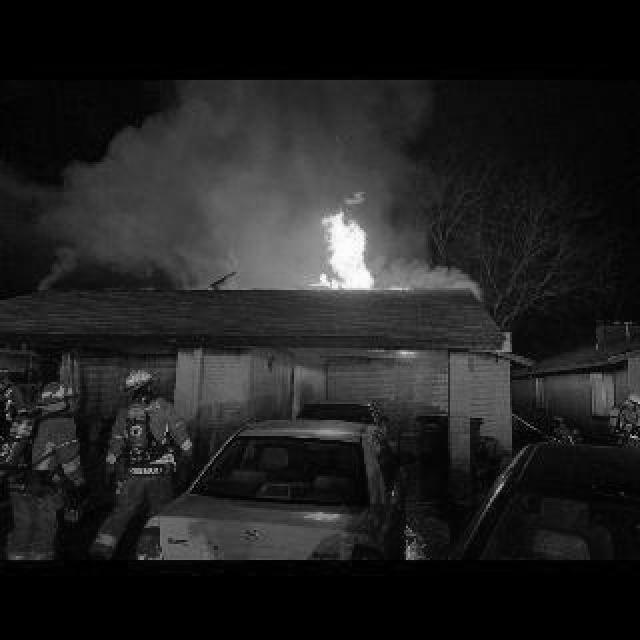Fire: (310, 188, 408, 290)
